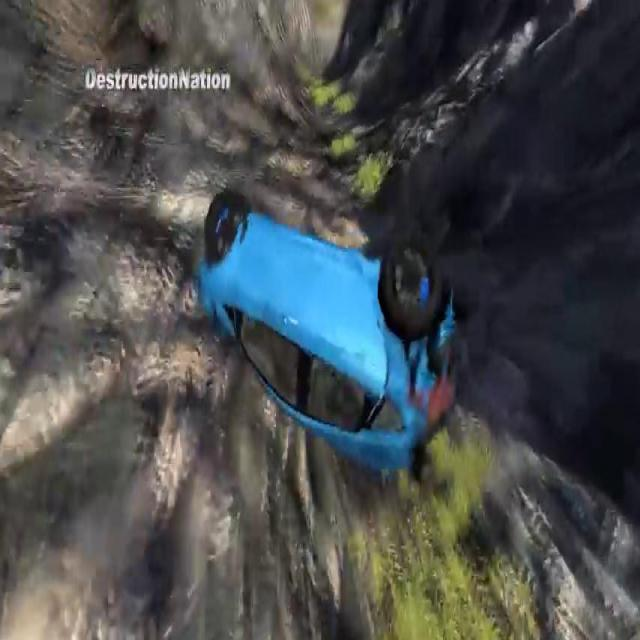accident: (187, 178, 466, 490)
